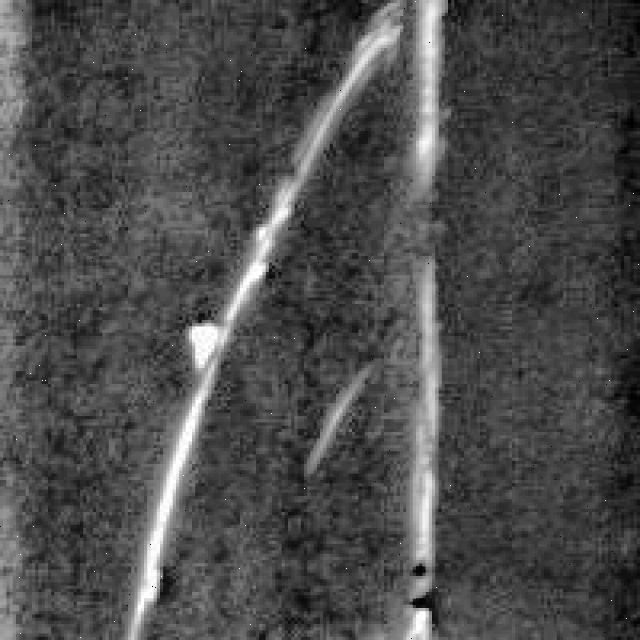Inclusion: (119, 3, 394, 630), (387, 284, 445, 634), (406, 0, 448, 176)
